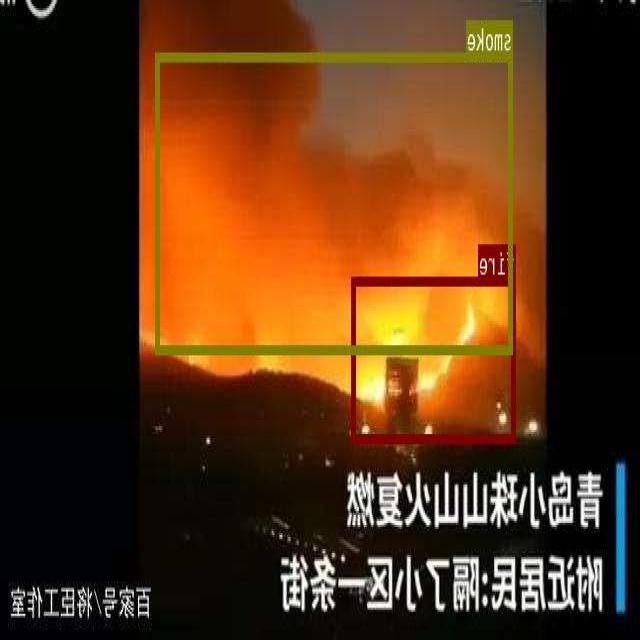fire: (353, 274, 516, 440)
smoke: (156, 51, 513, 352)
